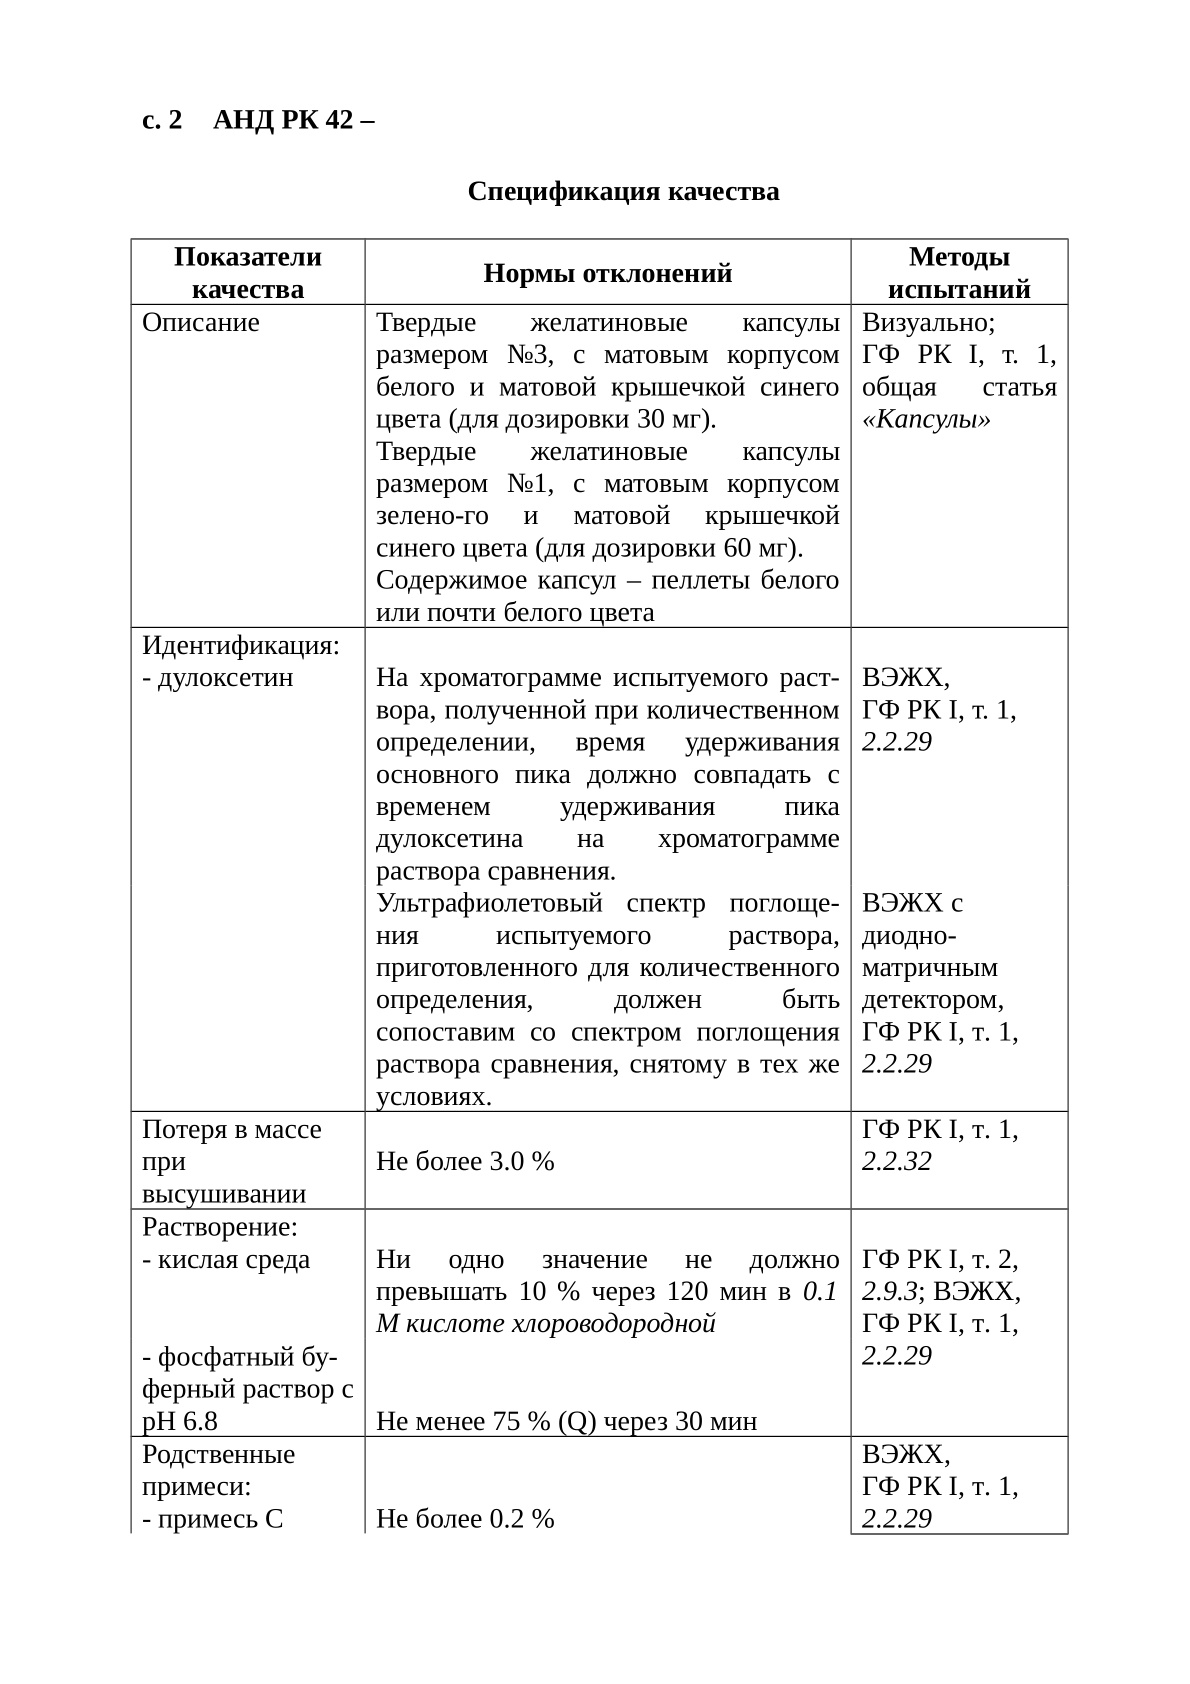full_lined: (129, 237, 1070, 1536)
